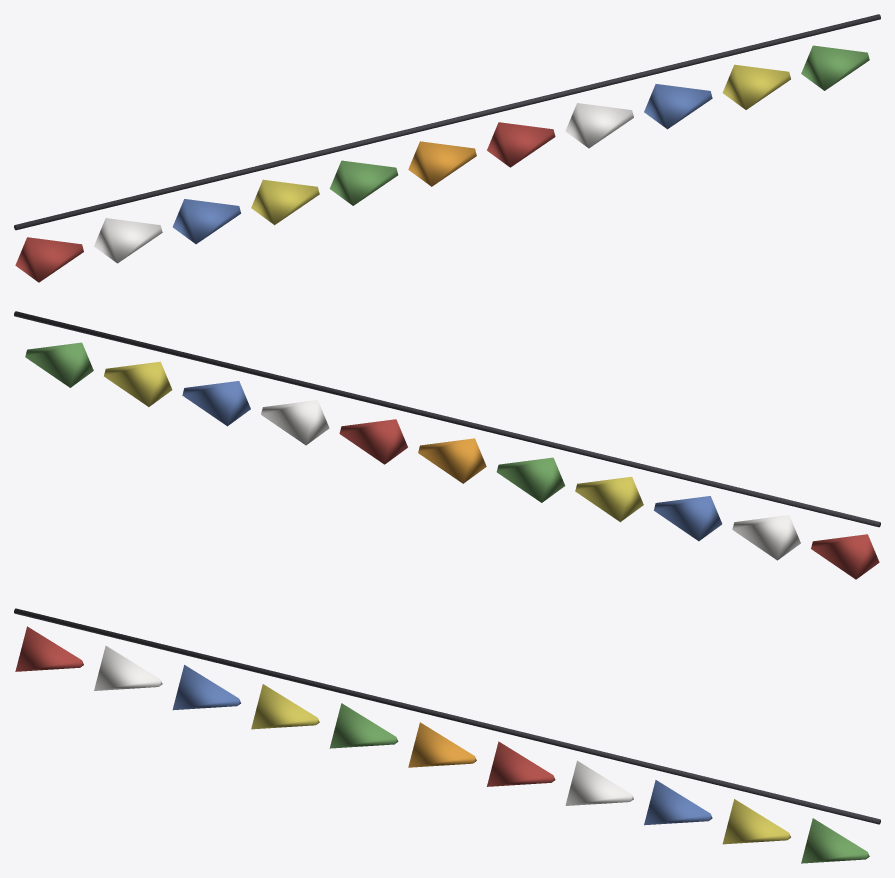
Rendered from prop_bankoku_flags.glb.
3 views of the same model, one above another, from view 1: azimuth 30°, elevation 25°; view 2: azimuth 150°, elevation 25°; view 3: azimuth 330°, elevation 25° (orthographic).
Visible parts, largest first — view 1: bankoku_flags; view 2: bankoku_flags; view 3: bankoku_flags.
Boxes of the visible parts, x1,y1,x2,y2 form: bankoku_flags: (14, 14, 880, 282); bankoku_flags: (14, 311, 880, 579); bankoku_flags: (14, 608, 880, 863).
Size of the model in its own units: 4.4 by 0.252 by 0.2078.
